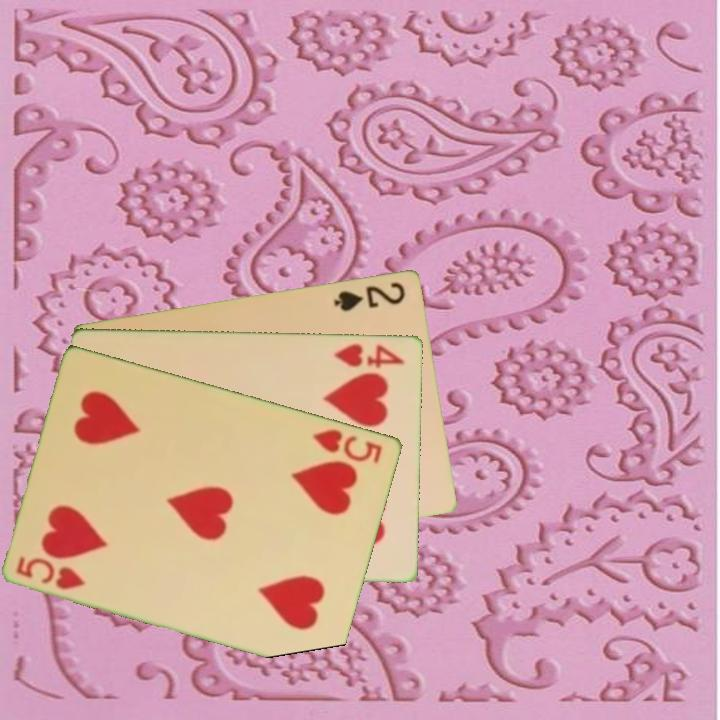2s: (330, 278, 409, 314)
4h: (330, 339, 408, 371)
5h: (309, 425, 386, 466), (13, 553, 89, 593)
